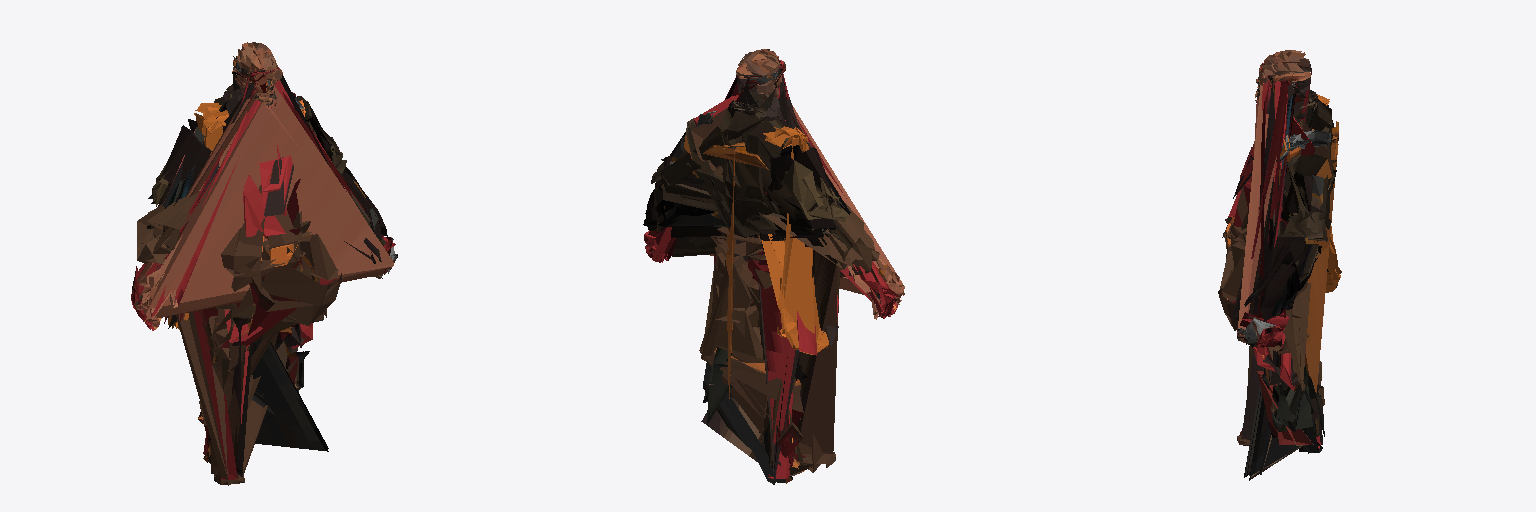
The picture shows the model from 3 angles: view 1: azimuth 30°, elevation 25°; view 2: azimuth 150°, elevation 25°; view 3: azimuth 270°, elevation 25°; orthographic projection.
Visible parts, largest first — view 1: engineer; view 2: engineer; view 3: engineer.
Boxes of the visible parts, box(x1,y1,x2,y2) form: engineer: box(131, 42, 397, 485); engineer: box(643, 49, 904, 484); engineer: box(1218, 50, 1341, 480).
Bounding box in the file's own units: 48.39 × 76.17 × 20.81.
Materials: 2 (2 with a texture image).